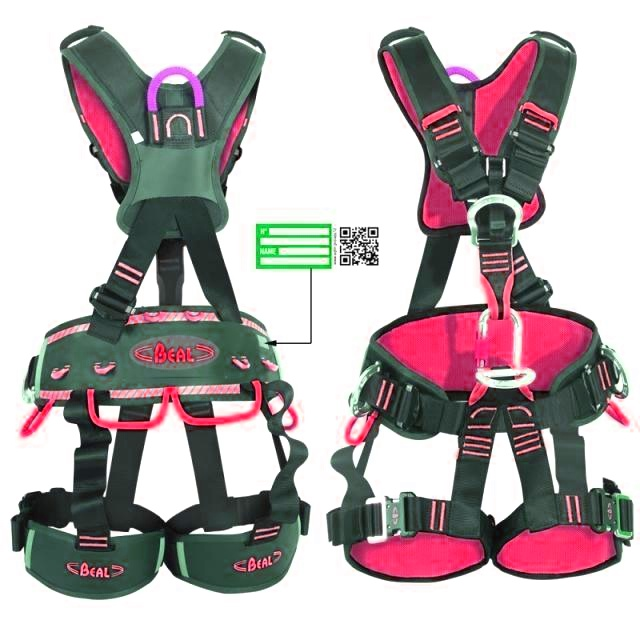safety belt: (14, 29, 308, 593), (352, 27, 637, 592)
